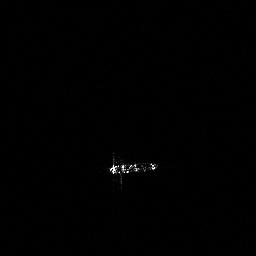ship: (111, 163, 157, 174)
